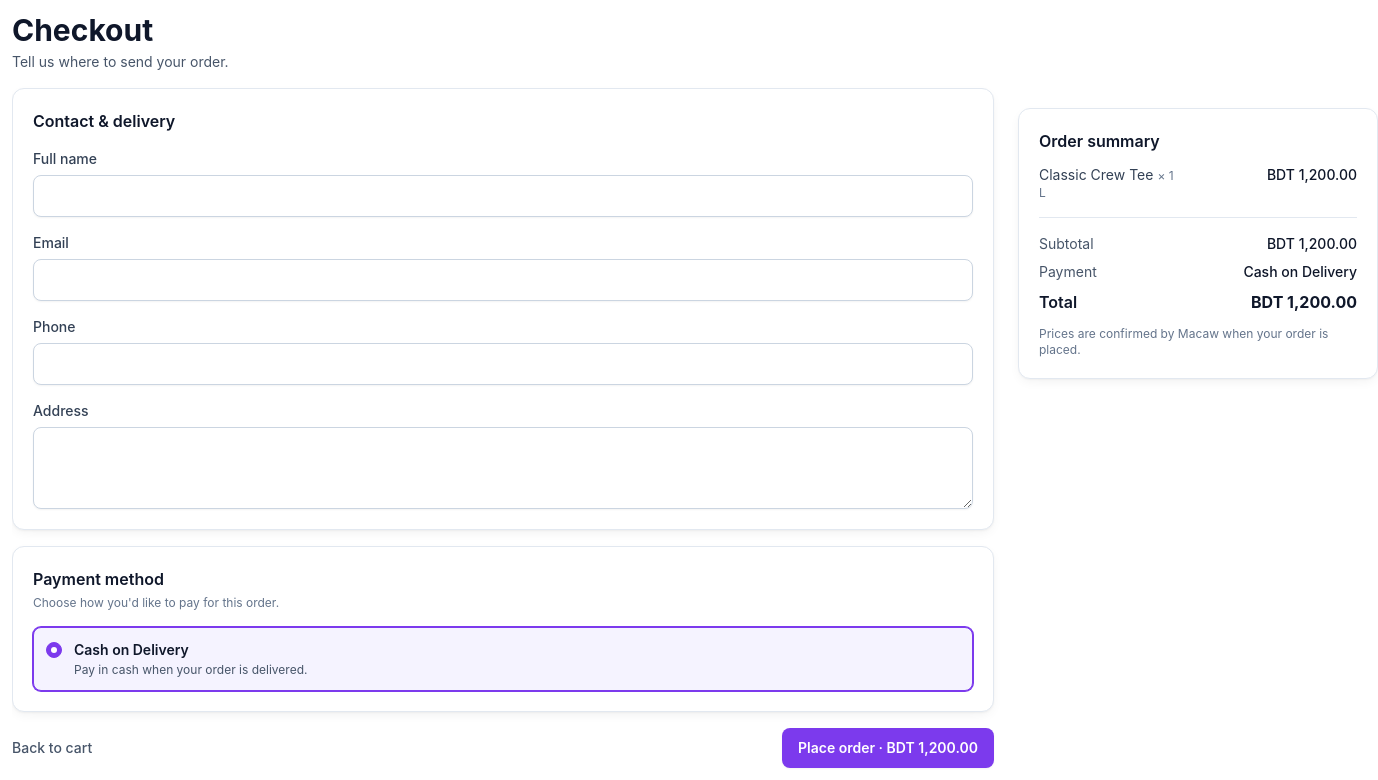
Test: CheckoutPage — validation and submission › clears the cart after a successful order
In the field labelled "Full name": (503, 196) [33, 175, 973, 217], type "Jane Doe"
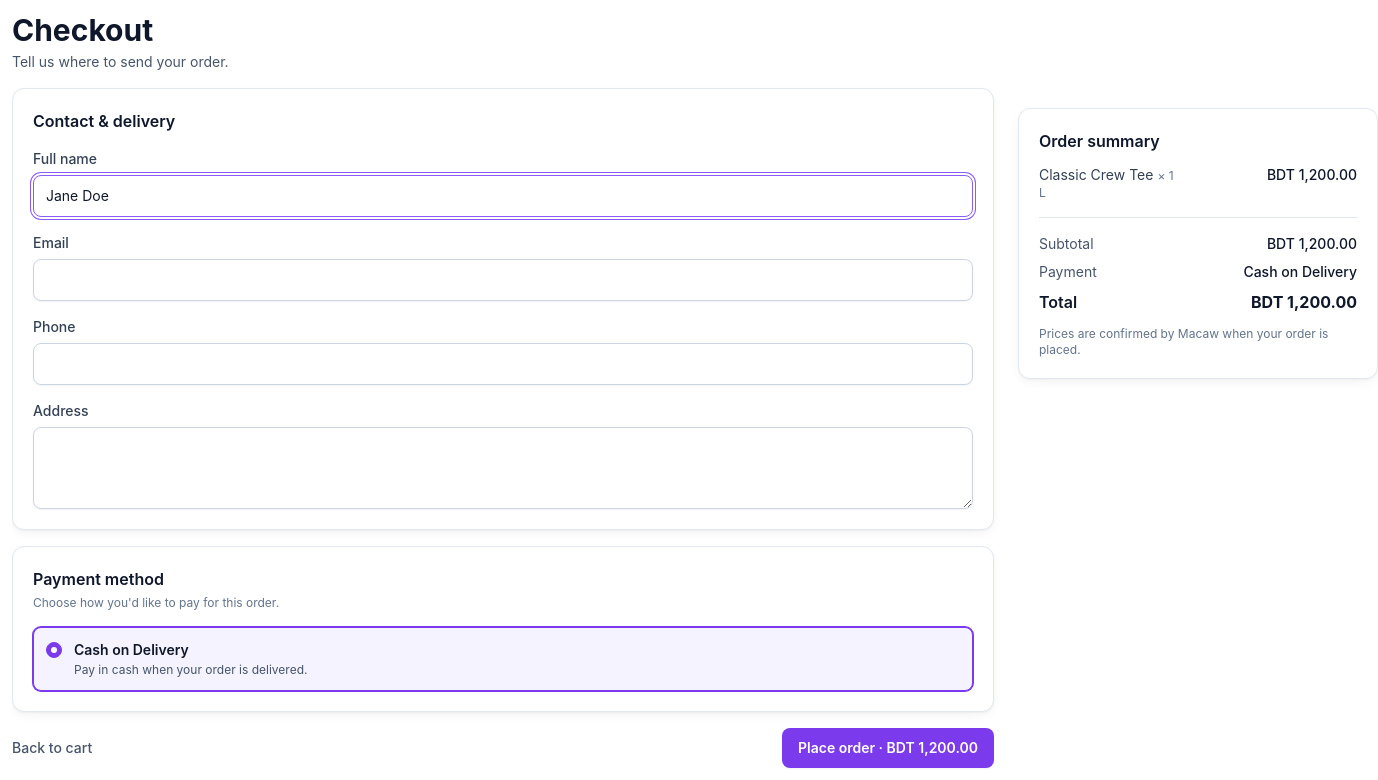
In the field labelled "Email": (503, 280) [33, 259, 973, 301], type "jane@example.com"
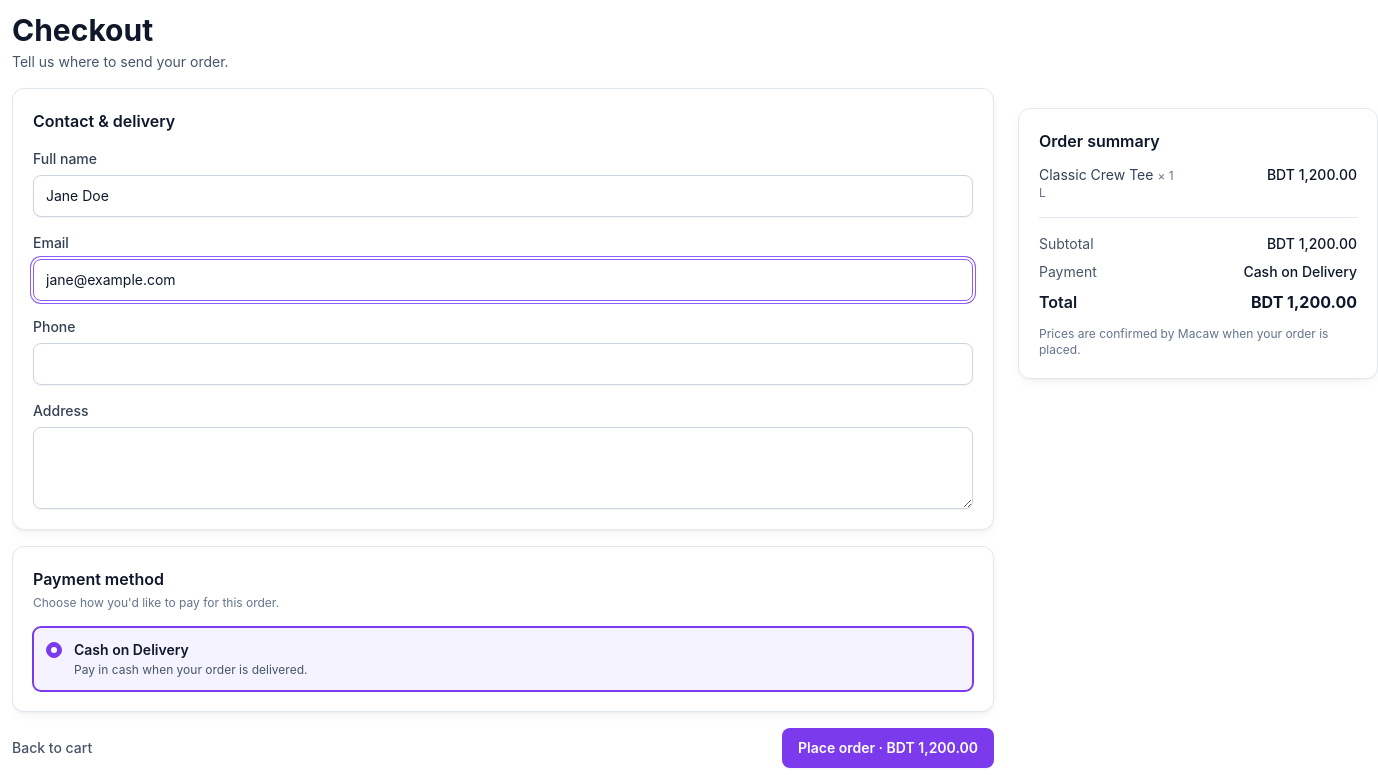
In the field labelled "Phone": (503, 364) [33, 343, 973, 385], type "+1 555 0000"
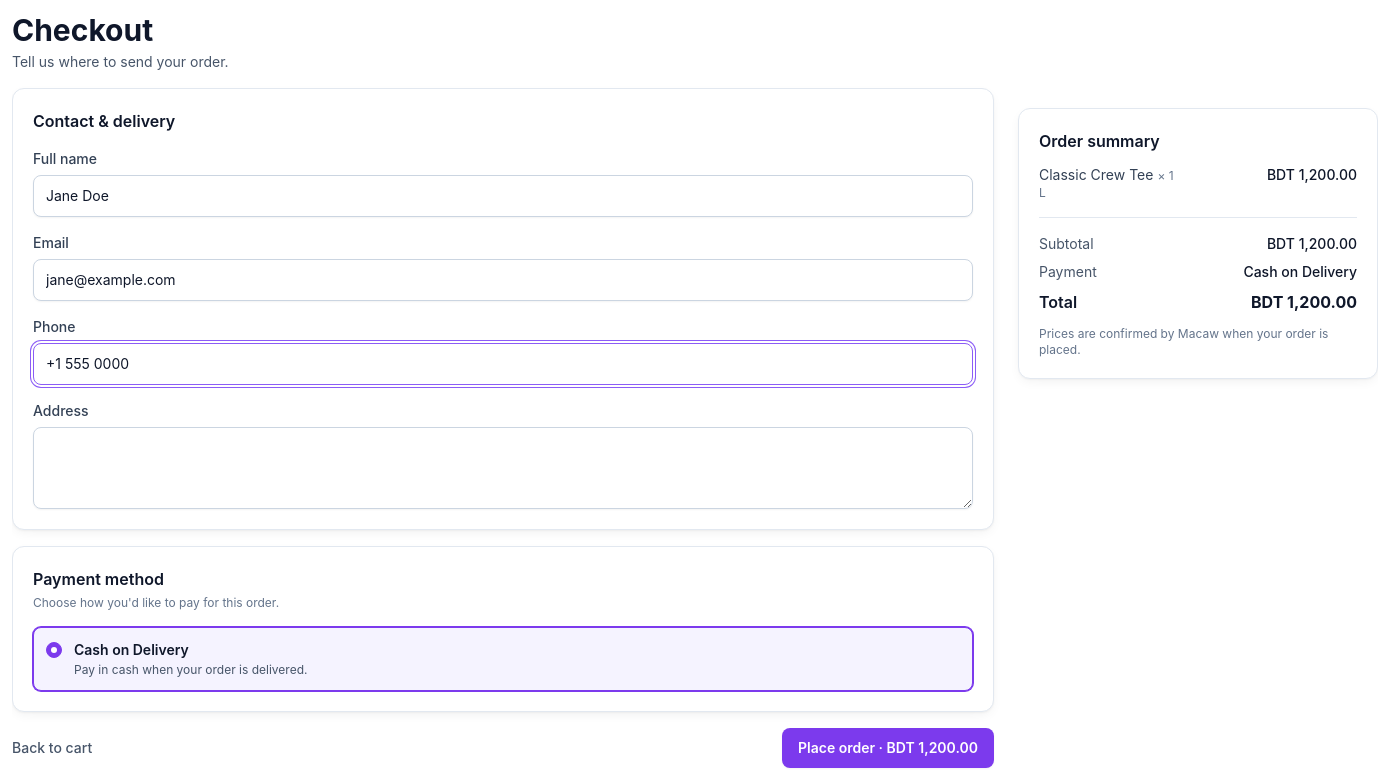
In the text box labelled "Address": (503, 468) [33, 427, 973, 509], type "1 Test Way"
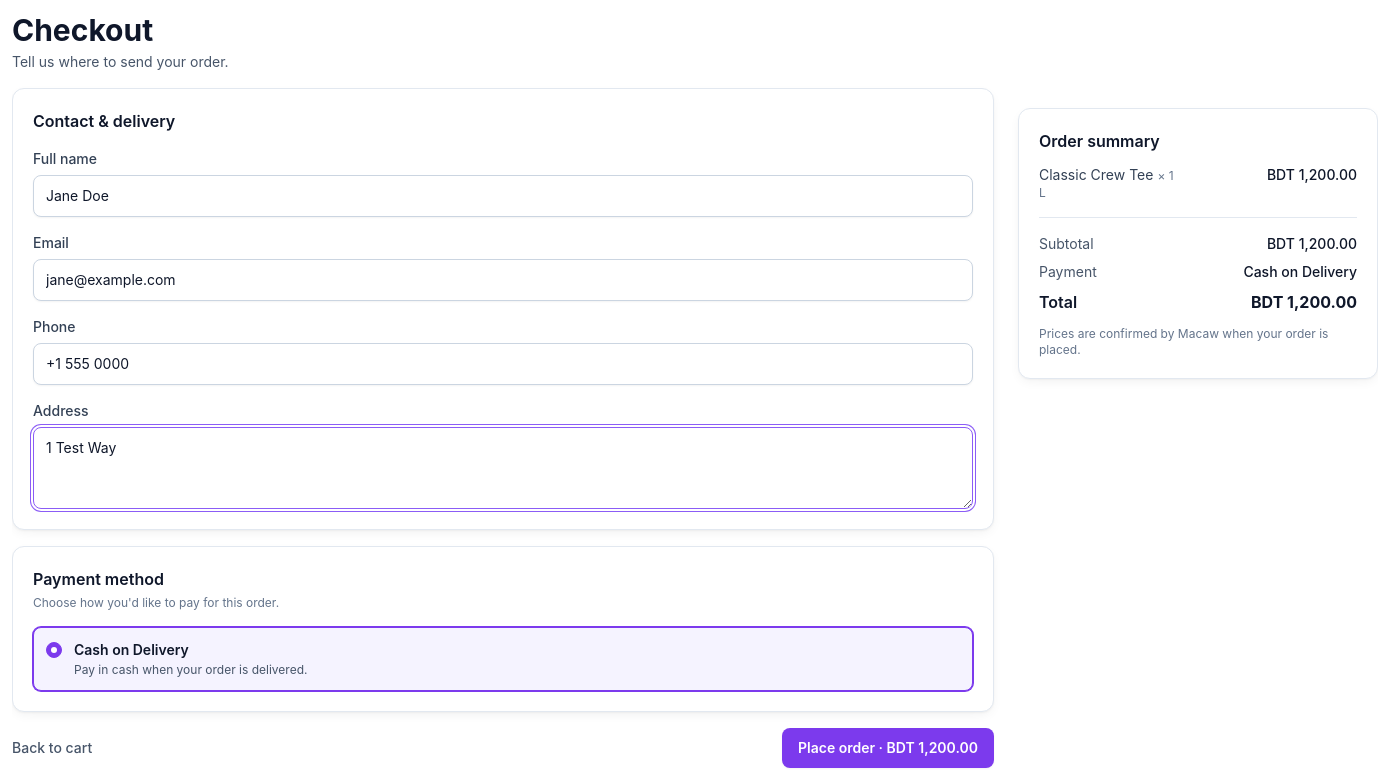
Click the button "Place order · BDT 1,200.00": (888, 748) [782, 728, 994, 768]
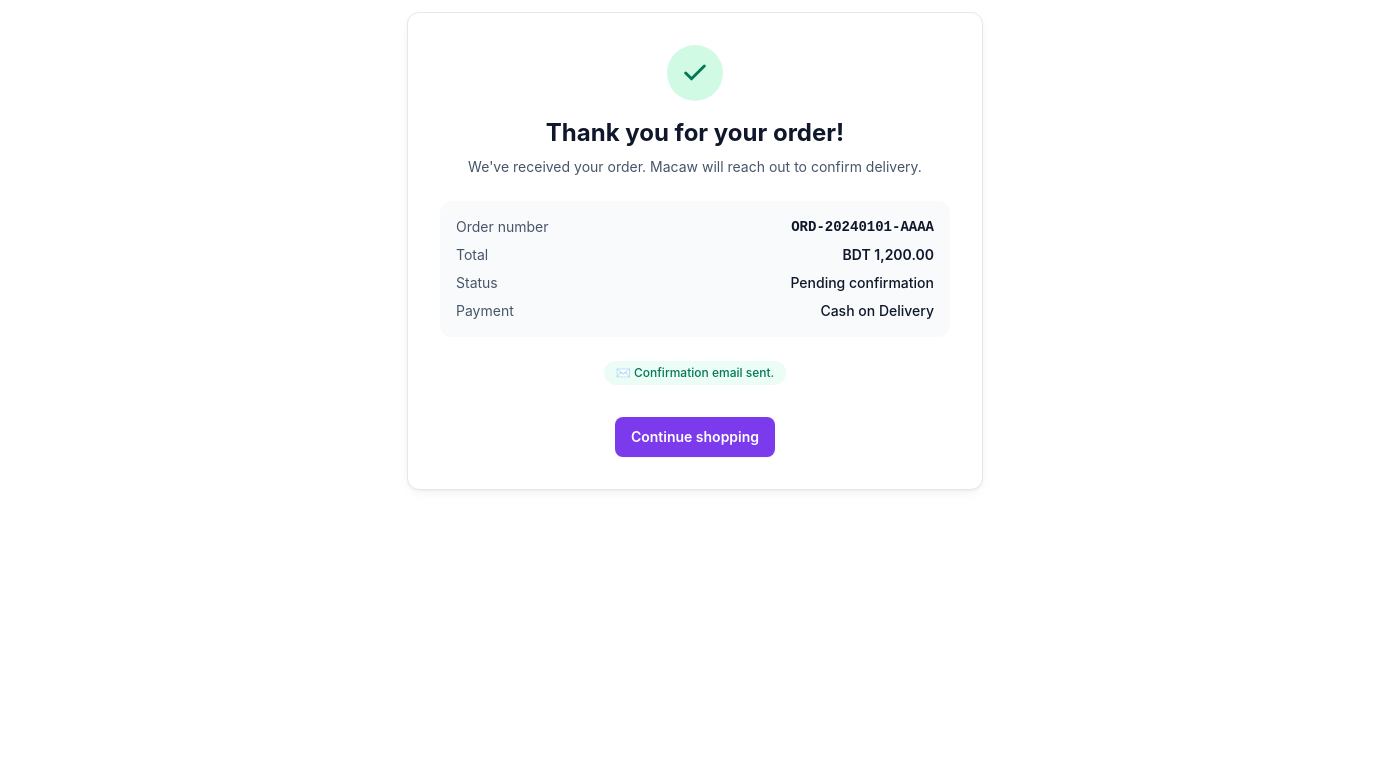
Now the heading "Thank you for your order!" is shown, box [546, 118, 844, 147]
